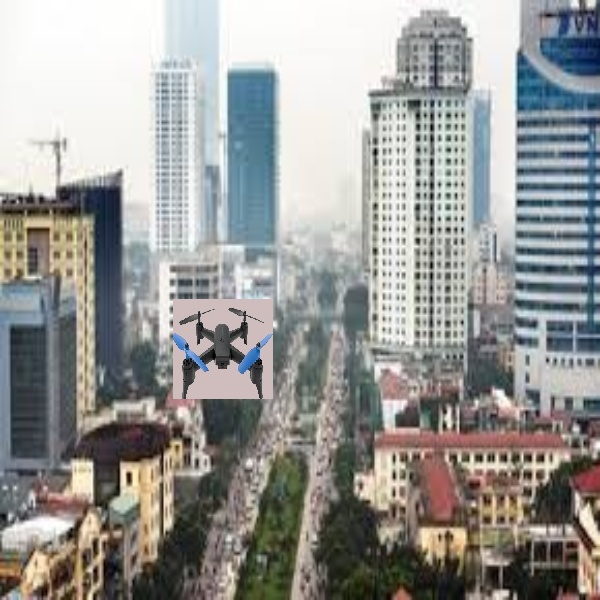drone: (170, 296, 275, 402)
